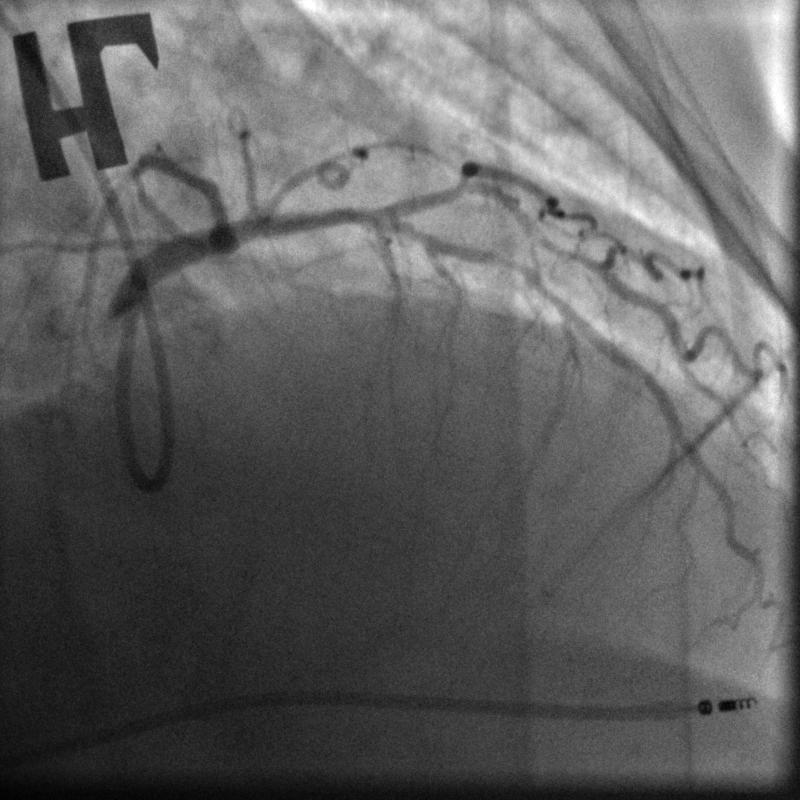Stenosis: (474, 245, 544, 288)
